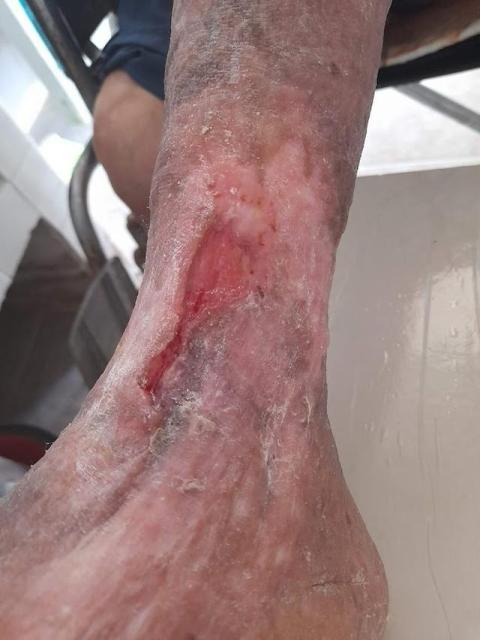wound: (135, 160, 285, 410)
